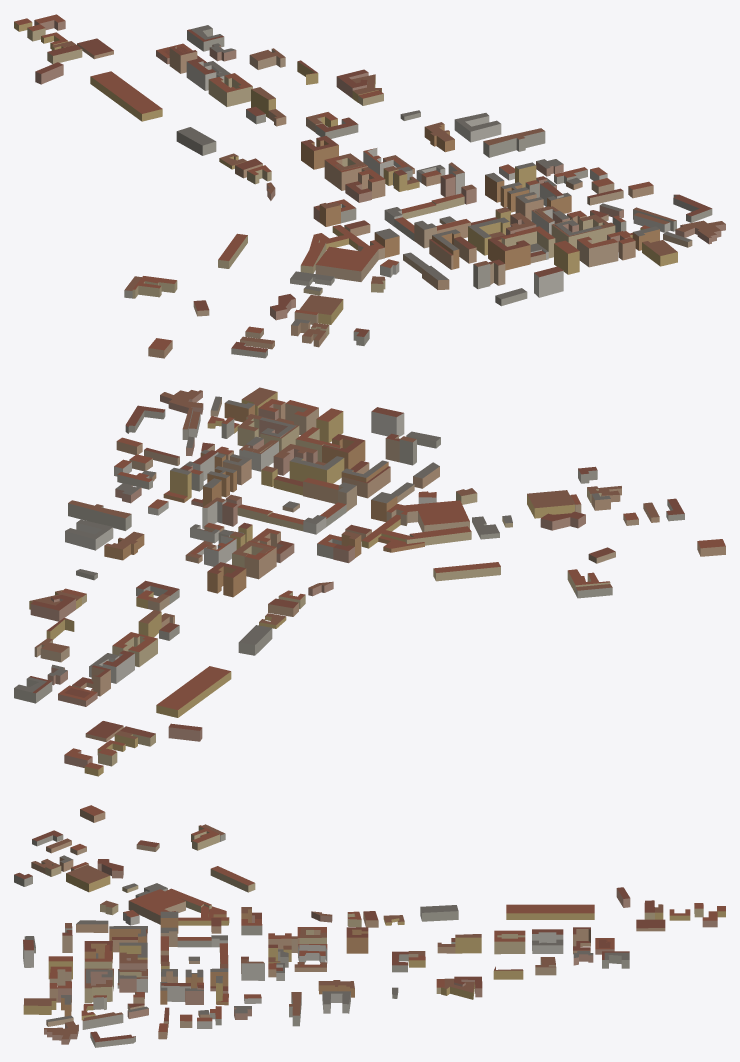
File: SM_Fondale_Citta_NE_01_LOD1.fbx
3 renders of one model, top to bottom at view 1: azimuth 30°, elevation 25°; view 2: azimuth 150°, elevation 25°; view 3: azimuth 270°, elevation 25°, orthographic. The views are drawn at different scales.
Parts seen in each view (by area): view 1: SM_Fondale_Citta_NE_01_LOD1; view 2: SM_Fondale_Citta_NE_01_LOD1; view 3: SM_Fondale_Citta_NE_01_LOD1.
Boxes of the visible parts, x1=… form: SM_Fondale_Citta_NE_01_LOD1: x1=14, y1=14, x2=725, y2=358; SM_Fondale_Citta_NE_01_LOD1: x1=14, y1=387, x2=725, y2=776; SM_Fondale_Citta_NE_01_LOD1: x1=14, y1=805, x2=725, y2=1047.
Bounding box in the file's own units: 91044 × 115687 × 4116.
